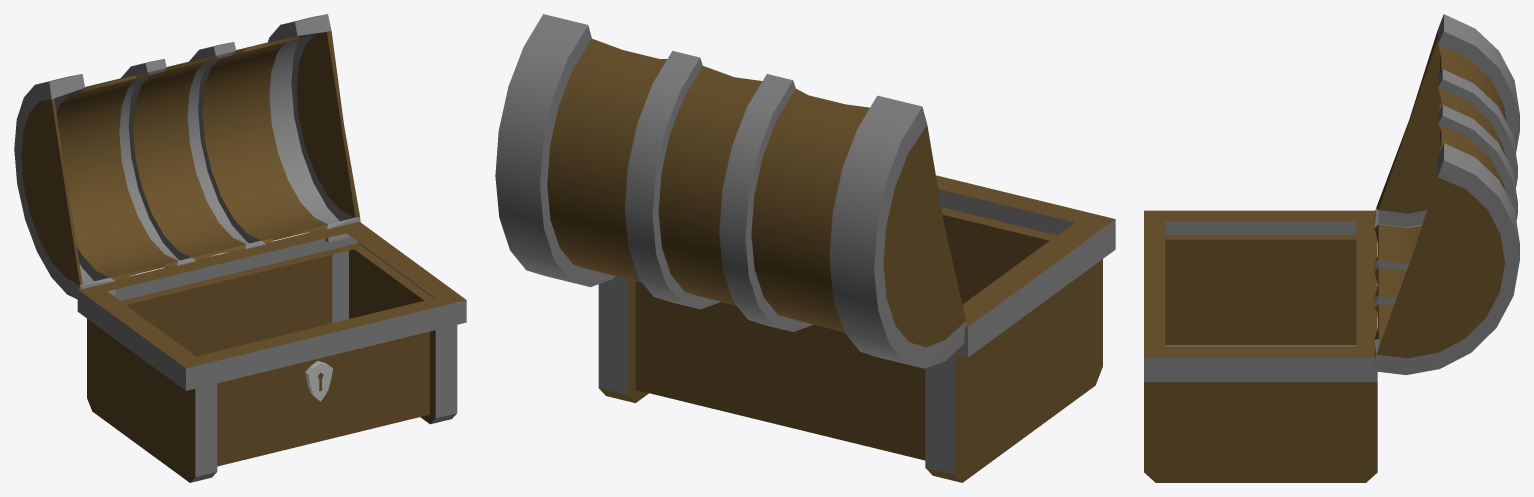
The model's file is ChestAnim.fbx.
3 views of the same model, side by side, from view 1: azimuth 30°, elevation 25°; view 2: azimuth 150°, elevation 25°; view 3: azimuth 270°, elevation 25° (orthographic). The views are drawn at different scales.
Visible parts, largest first — view 1: pCube1, pCylinder1, pCylinder2; view 2: pCylinder1, pCube1; view 3: pCube1, pCylinder1.
Part boxes in pixels (bbox=[...]): pCube1: bbox=[77, 221, 466, 482]; pCylinder1: bbox=[14, 14, 360, 299]; pCylinder2: bbox=[305, 361, 332, 401]; pCylinder1: bbox=[495, 14, 966, 368]; pCube1: bbox=[598, 175, 1115, 482]; pCube1: bbox=[1144, 210, 1377, 482]; pCylinder1: bbox=[1371, 14, 1519, 374].
Size of the model in its own units: 3.02 by 3.11 by 3.23.
